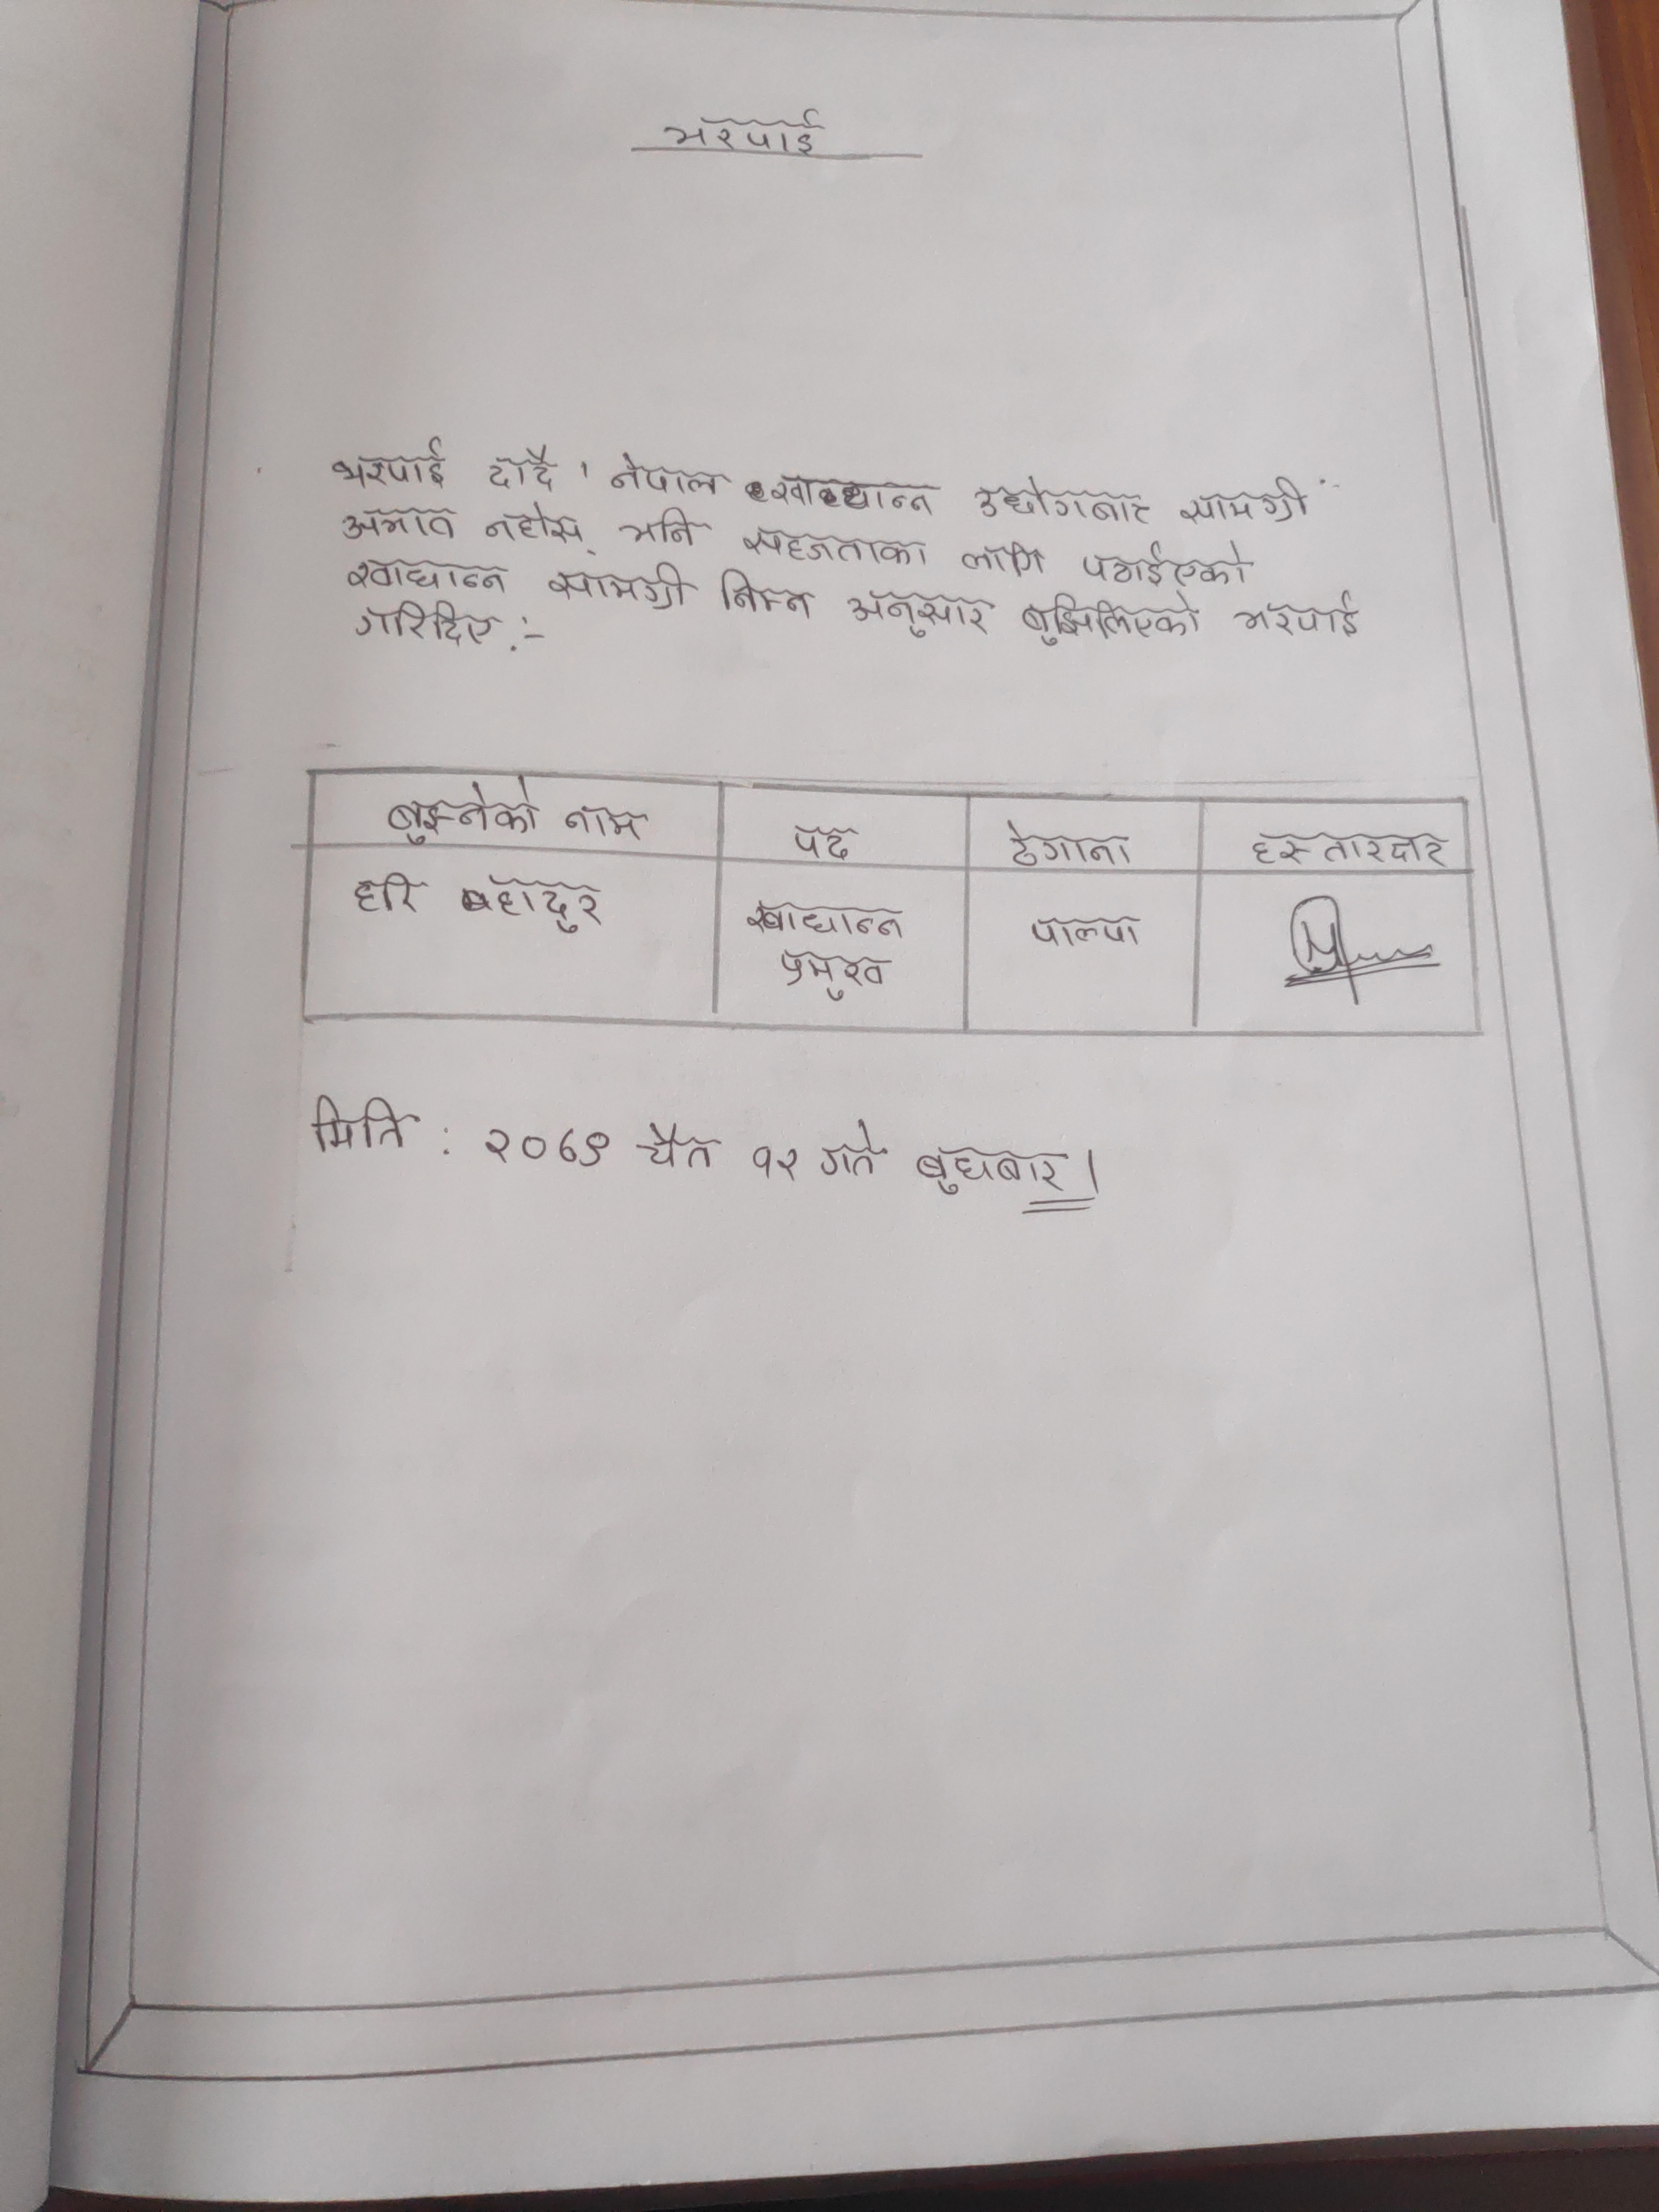text: (387, 780, 547, 850), (1021, 590, 1209, 644), (742, 523, 936, 571), (1077, 538, 1256, 590), (908, 1141, 1068, 1198), (655, 106, 831, 158), (840, 585, 1004, 641), (976, 475, 1154, 526), (1246, 826, 1452, 869), (767, 470, 945, 519), (310, 1089, 425, 1158), (547, 561, 699, 613), (746, 899, 913, 944), (319, 434, 453, 489), (343, 552, 514, 596), (354, 601, 502, 650), (488, 873, 606, 934), (995, 820, 1140, 869), (775, 946, 894, 1005), (476, 1120, 617, 1169), (1234, 590, 1363, 643), (483, 503, 598, 561), (716, 566, 823, 627), (1182, 475, 1309, 526), (610, 453, 730, 502), (340, 503, 462, 543), (1025, 911, 1150, 949), (816, 1118, 889, 1181), (633, 1122, 728, 1169), (559, 801, 652, 848), (483, 442, 559, 495), (620, 507, 711, 549), (960, 538, 1051, 580), (350, 869, 427, 914), (784, 820, 870, 860), (749, 1141, 802, 1183)
